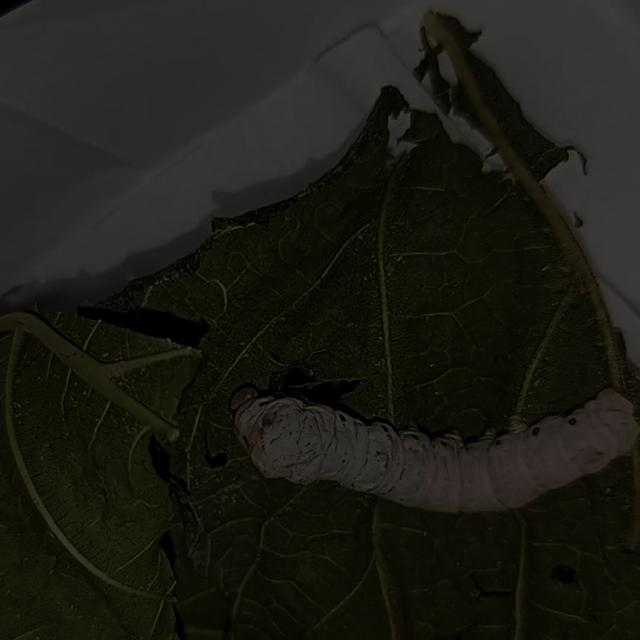Healthy: (226, 373, 638, 527)
